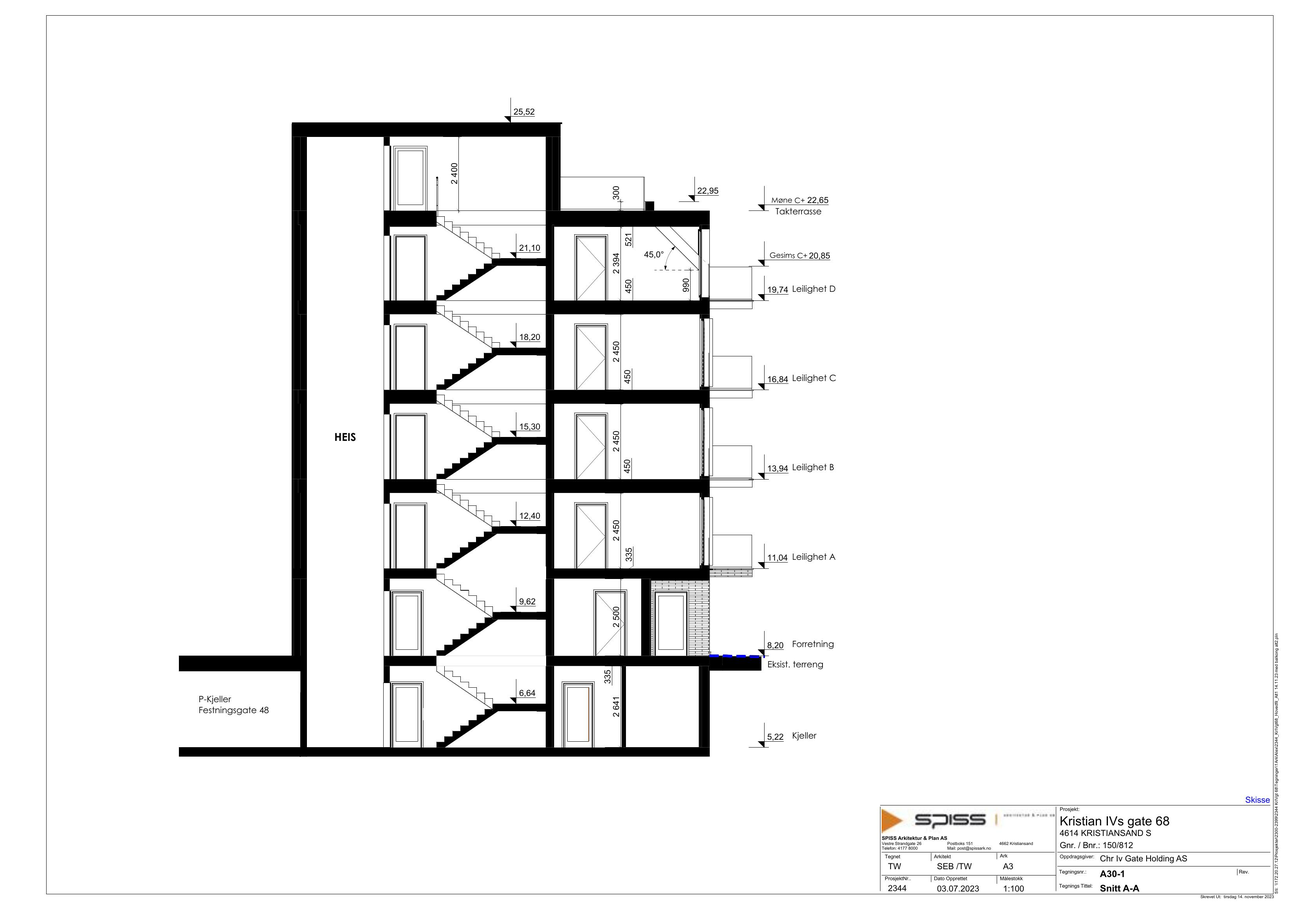snitt: (263, 114, 759, 776)
